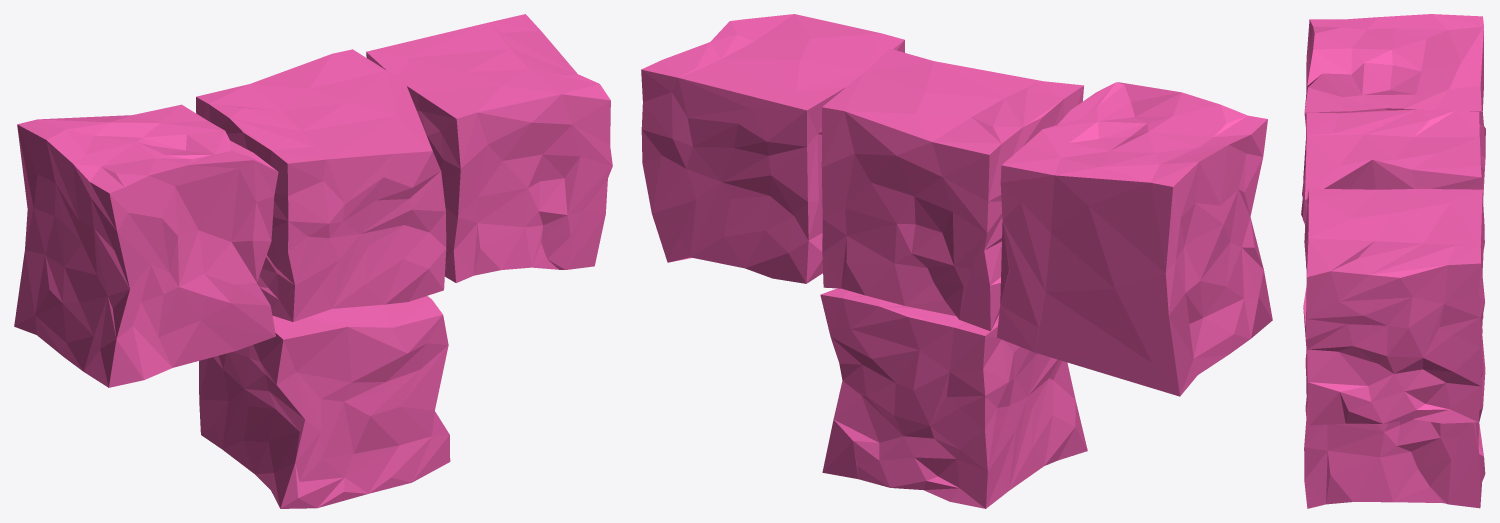
File: T_tetris.fbx
3 views of the same model, side by side, from view 1: azimuth 30°, elevation 25°; view 2: azimuth 150°, elevation 25°; view 3: azimuth 270°, elevation 25° (orthographic). The views are drawn at different scales.
Visible parts, largest first — view 1: Cubo, Cubo_3_2, Cubo_2, Cubo_5; view 2: Cubo, Cubo_3_2, Cubo_2, Cubo_5; view 3: Cubo_2, Cubo, Cubo_5, Cubo_3_2.
Boxes of the visible parts, bbox=[...] form: Cubo: bbox=[14, 104, 278, 387]; Cubo_3_2: bbox=[196, 49, 446, 321]; Cubo_2: bbox=[366, 14, 612, 282]; Cubo_5: bbox=[199, 296, 450, 508]; Cubo: bbox=[996, 82, 1272, 396]; Cubo_3_2: bbox=[821, 48, 1083, 331]; Cubo_2: bbox=[641, 14, 904, 283]; Cubo_5: bbox=[820, 288, 1087, 508]; Cubo_2: bbox=[1304, 188, 1484, 425]; Cubo: bbox=[1301, 14, 1485, 266]; Cubo_5: bbox=[1303, 286, 1485, 508]; Cubo_3_2: bbox=[1302, 109, 1484, 320].
Bounding box in the file's own units: 654 × 456 × 214.
